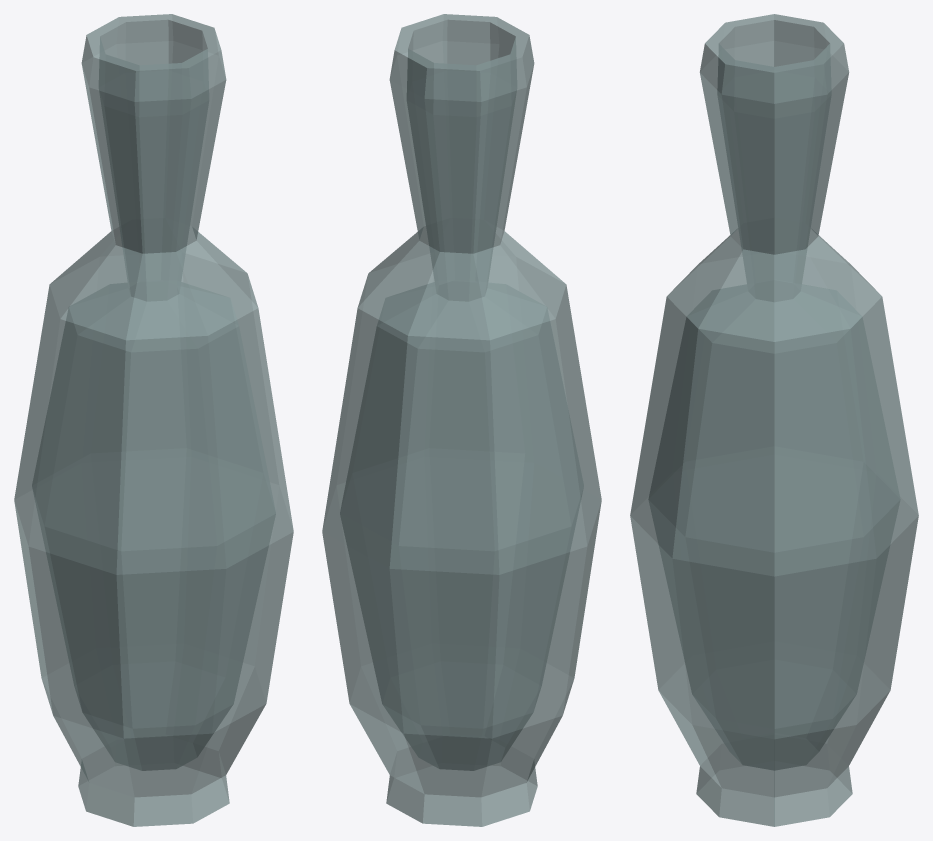
File: POT_2.fbx
The picture shows the model from 3 angles, left to right: view 1: azimuth 30°, elevation 25°; view 2: azimuth 150°, elevation 25°; view 3: azimuth 270°, elevation 25°; orthographic projection.
Visible parts, largest first — view 1: pCylinder10; view 2: pCylinder10; view 3: pCylinder10.
Part boxes in pixels (x1=…): pCylinder10: x1=14, y1=14, x2=293, y2=826; pCylinder10: x1=322, y1=14, x2=601, y2=826; pCylinder10: x1=630, y1=14, x2=918, y2=826.
Bounding box in the file's own units: 0.2022 × 0.58 × 0.2022.
